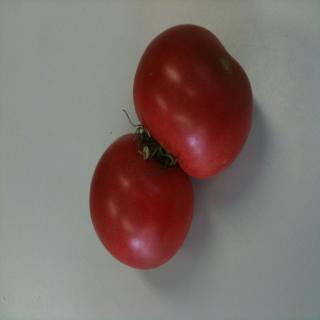tomato: (128, 21, 260, 182), (89, 132, 194, 274)
